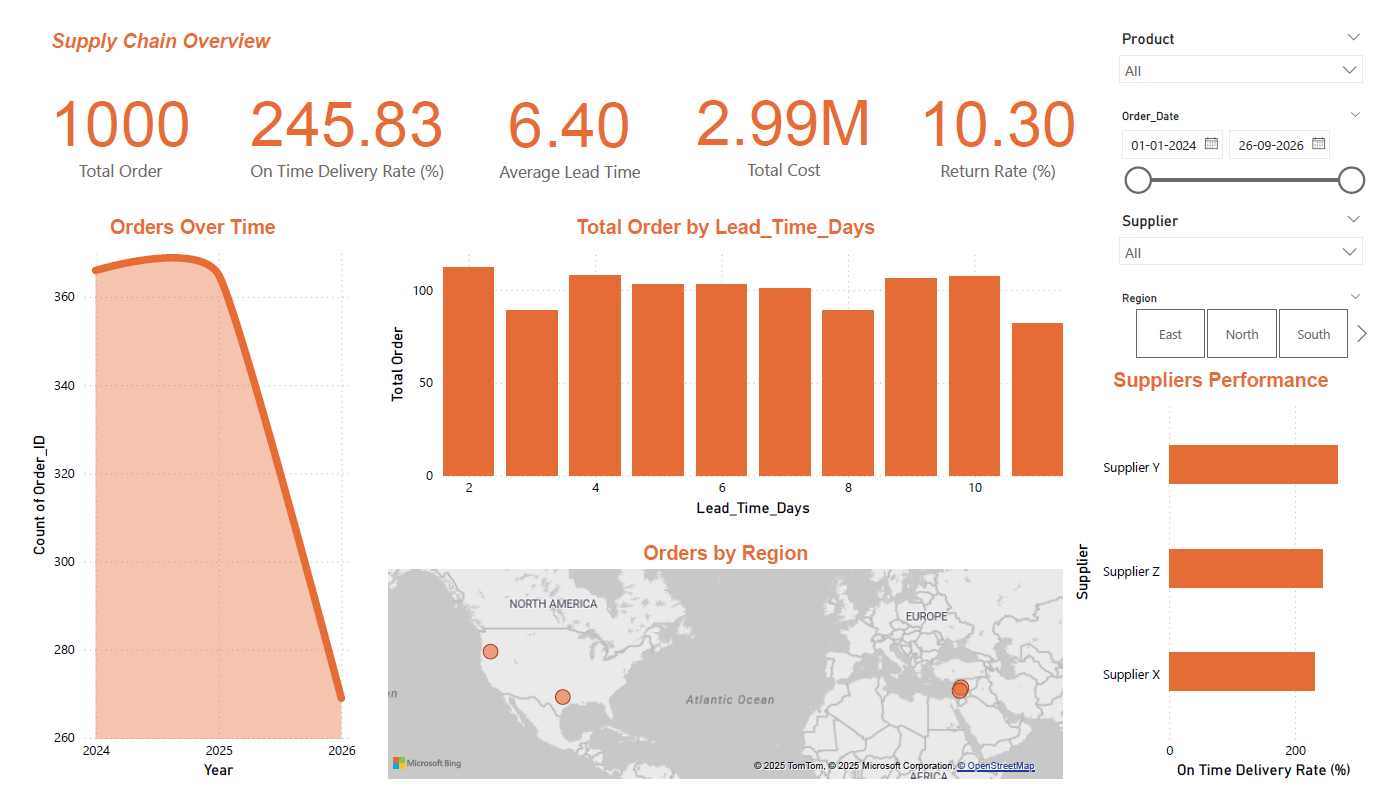

Layout of this report page (visuals, bound fields, positions):
{"tool":"powerbi","page":{"name":"Page 1","canvas":[1280,720],"ordinal":0},"visuals":[{"type":"textbox","box":[0,0,260,38.8],"z":0},{"type":"card","fields":{"Values":["supply_chain_large_dataset.Total Order"]},"box":[0,33.8,181.2,130],"z":1000},{"type":"card","fields":{"Values":["supply_chain_large_dataset.On Time Delivery Rate (%)"]},"box":[196.2,33.8,218.8,131.2],"z":2000},{"type":"card","fields":{"Values":["supply_chain_large_dataset.Average Lead Time"]},"box":[425,35,183.8,130],"z":3000},{"type":"card","fields":{"Values":["supply_chain_large_dataset.Total Cost"]},"box":[620,32.5,200,131.2],"z":4000},{"type":"card","fields":{"Values":["supply_chain_large_dataset.Return Rate (%)"]},"box":[831.2,33.8,185,130],"z":5000},{"type":"lineChart","title":"Orders Over Time","fields":{"Y":["CountNonNull(supply_chain_large_dataset.Order_ID)"],"Category":["supply_chain_large_dataset.Order_Date.Variation.Date Hierarchy.Year","supply_chain_large_dataset.Order_Date.Variation.Date Hierarchy.Quarter","supply_chain_large_dataset.Order_Date.Variation.Date Hierarchy.Month"]},"box":[0,181.2,317.5,538.8],"z":6000},{"type":"map","title":"Orders by Region","fields":{"Category":["supply_chain_large_dataset.Region"],"Size":["supply_chain_large_dataset.Total Order"]},"box":[340,491.2,650,228.8],"z":7000},{"type":"barChart","title":"Suppliers Performance ","fields":{"Category":["supply_chain_large_dataset.Supplier"],"Y":["supply_chain_large_dataset.On Time Delivery Rate (%)"]},"box":[990,326.2,290,393.8],"z":8000},{"type":"columnChart","fields":{"Category":["supply_chain_large_dataset.Lead_Time_Days"],"Y":["supply_chain_large_dataset.Total Order"]},"box":[340,181.2,650,290],"z":9000},{"type":"slicer","fields":{"Values":["supply_chain_large_dataset.Order_Date"]},"box":[1027.5,75,252.5,97.5],"z":10000},{"type":"slicer","fields":{"Values":["supply_chain_large_dataset.Region"]},"box":[1027.5,247.5,252.5,75],"z":11000},{"type":"slicer","fields":{"Values":["supply_chain_large_dataset.Supplier"]},"box":[1027.5,172.5,252.5,75],"z":12000},{"type":"slicer","fields":{"Values":["supply_chain_large_dataset.Product"]},"box":[1027.5,0,252.5,75],"z":13000}]}

Visuals, with their boxes in screenshot pixels (x1, y1, x2, y2), scaled from the page's 1280x720 canvas onto the 1397x807 screenshot:
textbox: (0,0,284,43)
card - supply_chain_large_dataset.Total Order: (0,38,198,184)
card - supply_chain_large_dataset.On Time Delivery Rate (%): (214,38,453,185)
card - supply_chain_large_dataset.Average Lead Time: (464,39,664,185)
card - supply_chain_large_dataset.Total Cost: (677,36,895,183)
card - supply_chain_large_dataset.Return Rate (%): (907,38,1109,184)
"Orders Over Time" lineChart: (0,203,347,806)
"Orders by Region" map: (371,551,1080,806)
"Suppliers Performance " barChart: (1080,366,1396,806)
columnChart - supply_chain_large_dataset.Lead_Time_Days x supply_chain_large_dataset.Total Order: (371,203,1080,528)
slicer - supply_chain_large_dataset.Order_Date: (1121,84,1396,193)
slicer - supply_chain_large_dataset.Region: (1121,277,1396,361)
slicer - supply_chain_large_dataset.Supplier: (1121,193,1396,277)
slicer - supply_chain_large_dataset.Product: (1121,0,1396,84)
